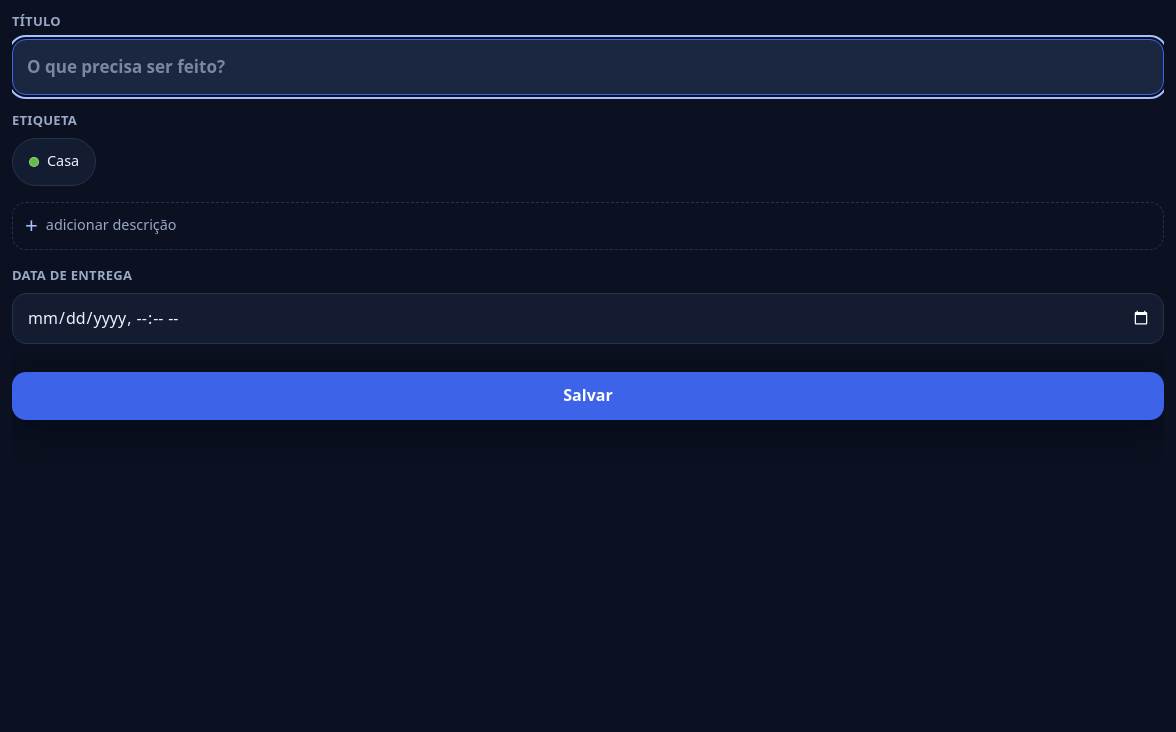
Test: CardForm › still refuses to save without a title when a description is typed (FR-004)
Click the button "+ adicionar descrição". click: (111, 225)
box: x1=12 y1=202 x2=1164 y2=250
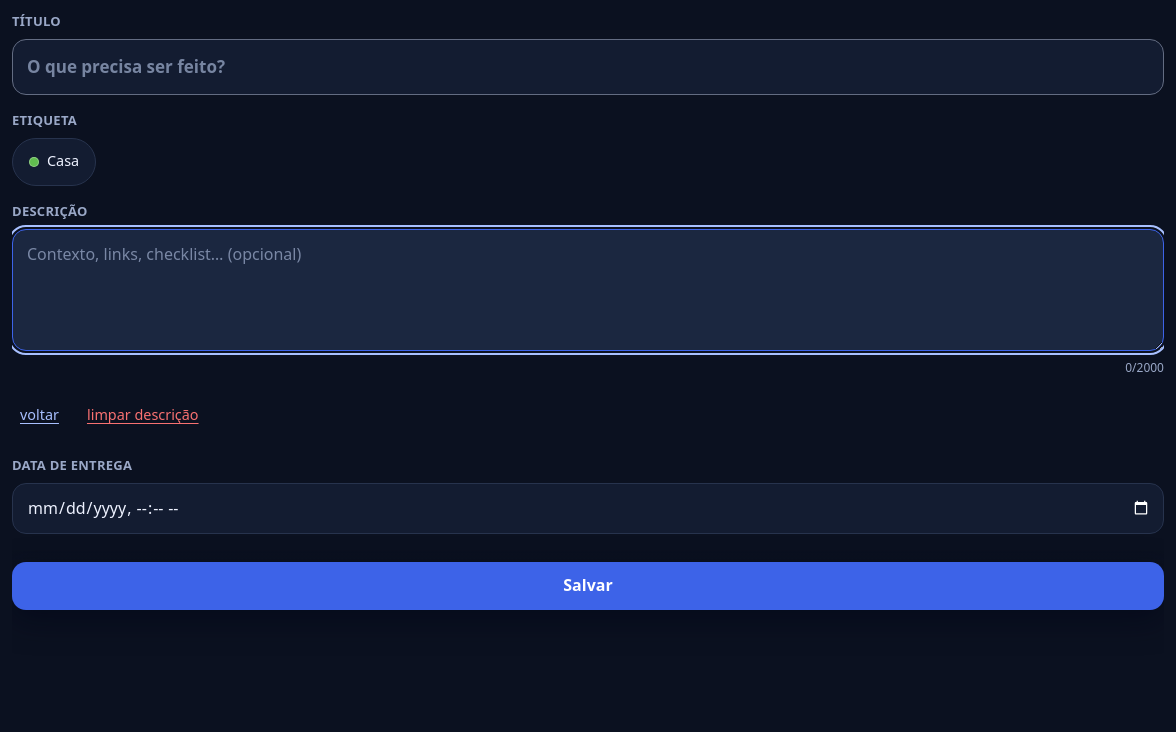
Type "só descrição" into the text box labelled "Descrição". click: (588, 290)
box: x1=12 y1=228 x2=1164 y2=350
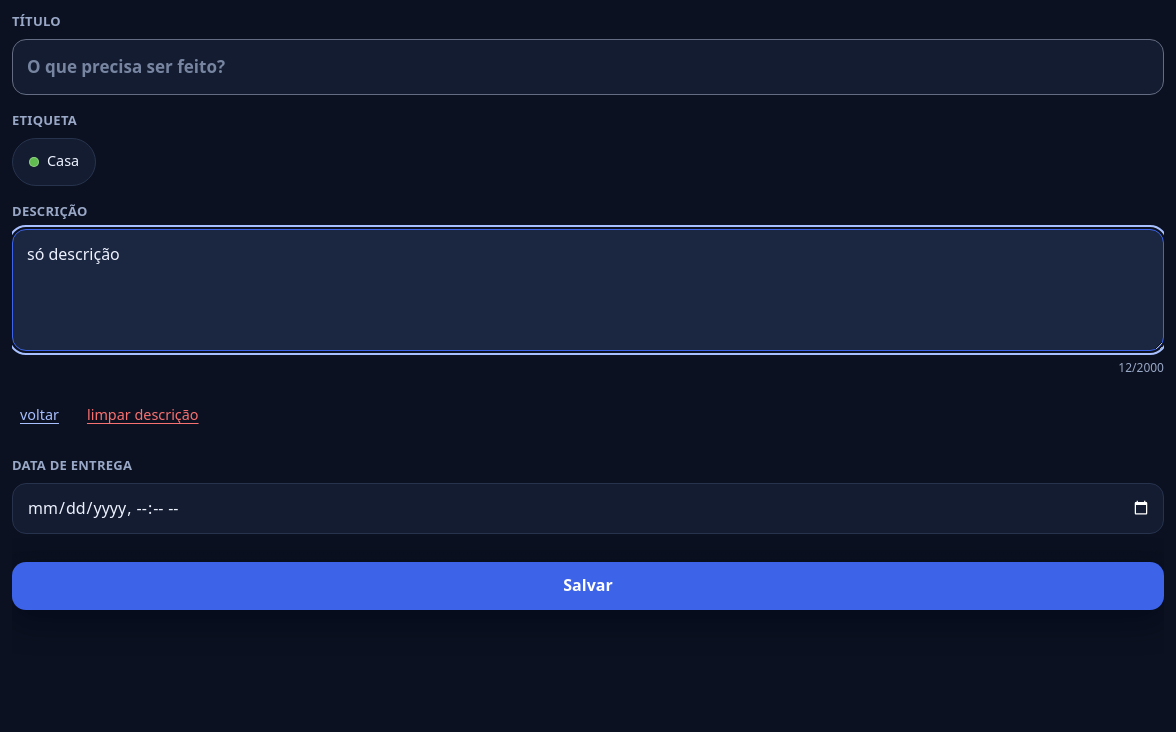
Click the button "Salvar". click: (588, 586)
box: x1=12 y1=562 x2=1164 y2=610
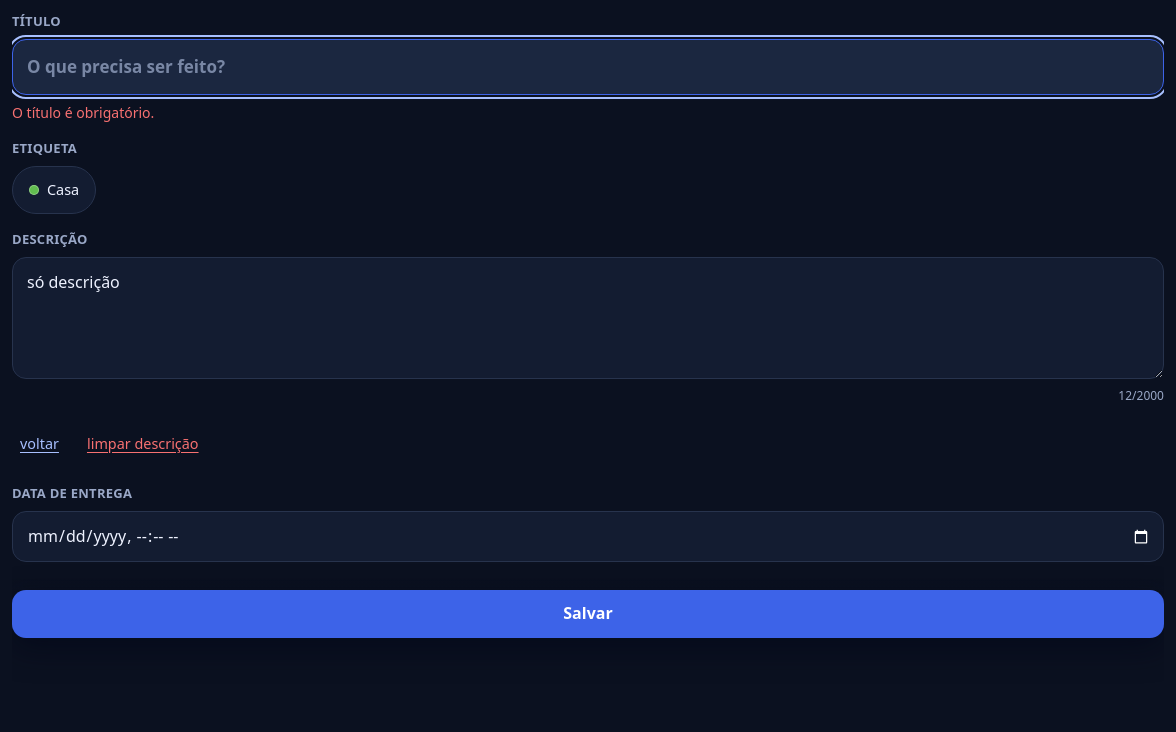
Now the message reads "O título é obrigatório.", box x1=12 y1=103 x2=154 y2=122
